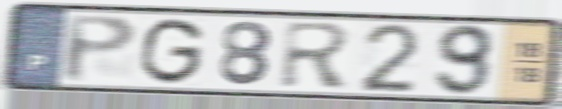2: (359, 21, 422, 94)
8: (218, 20, 274, 88)
9: (430, 22, 495, 99)
G: (136, 16, 208, 87)
P: (61, 13, 140, 85)
R: (277, 19, 354, 90)
